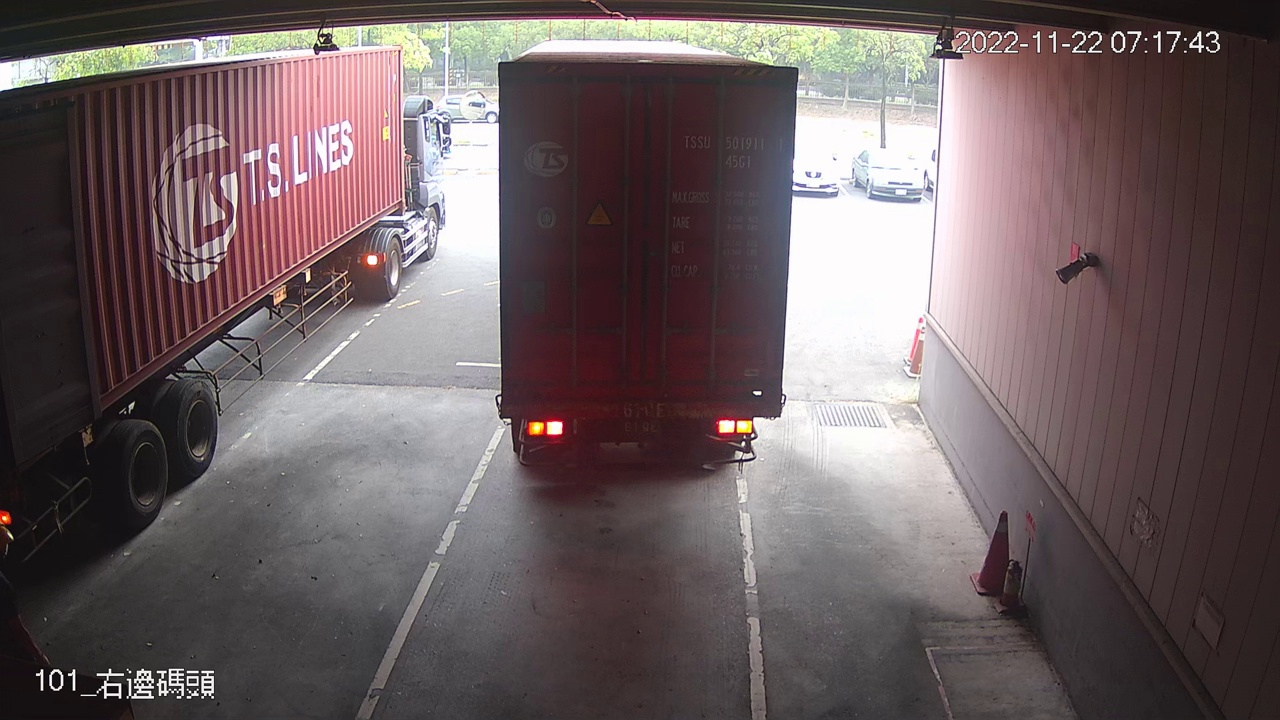container: (679, 130, 790, 173)
